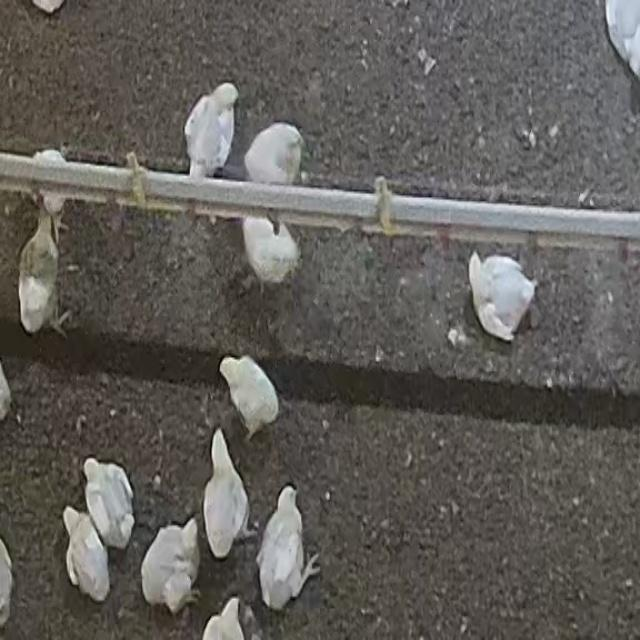chicken: (255, 488, 318, 610), (17, 204, 68, 338), (469, 252, 536, 342), (139, 518, 200, 616), (182, 80, 239, 180), (204, 432, 249, 558), (81, 458, 136, 549), (63, 508, 112, 603), (220, 358, 279, 436), (241, 216, 300, 292), (243, 124, 305, 190), (32, 147, 74, 221), (199, 597, 249, 640)
